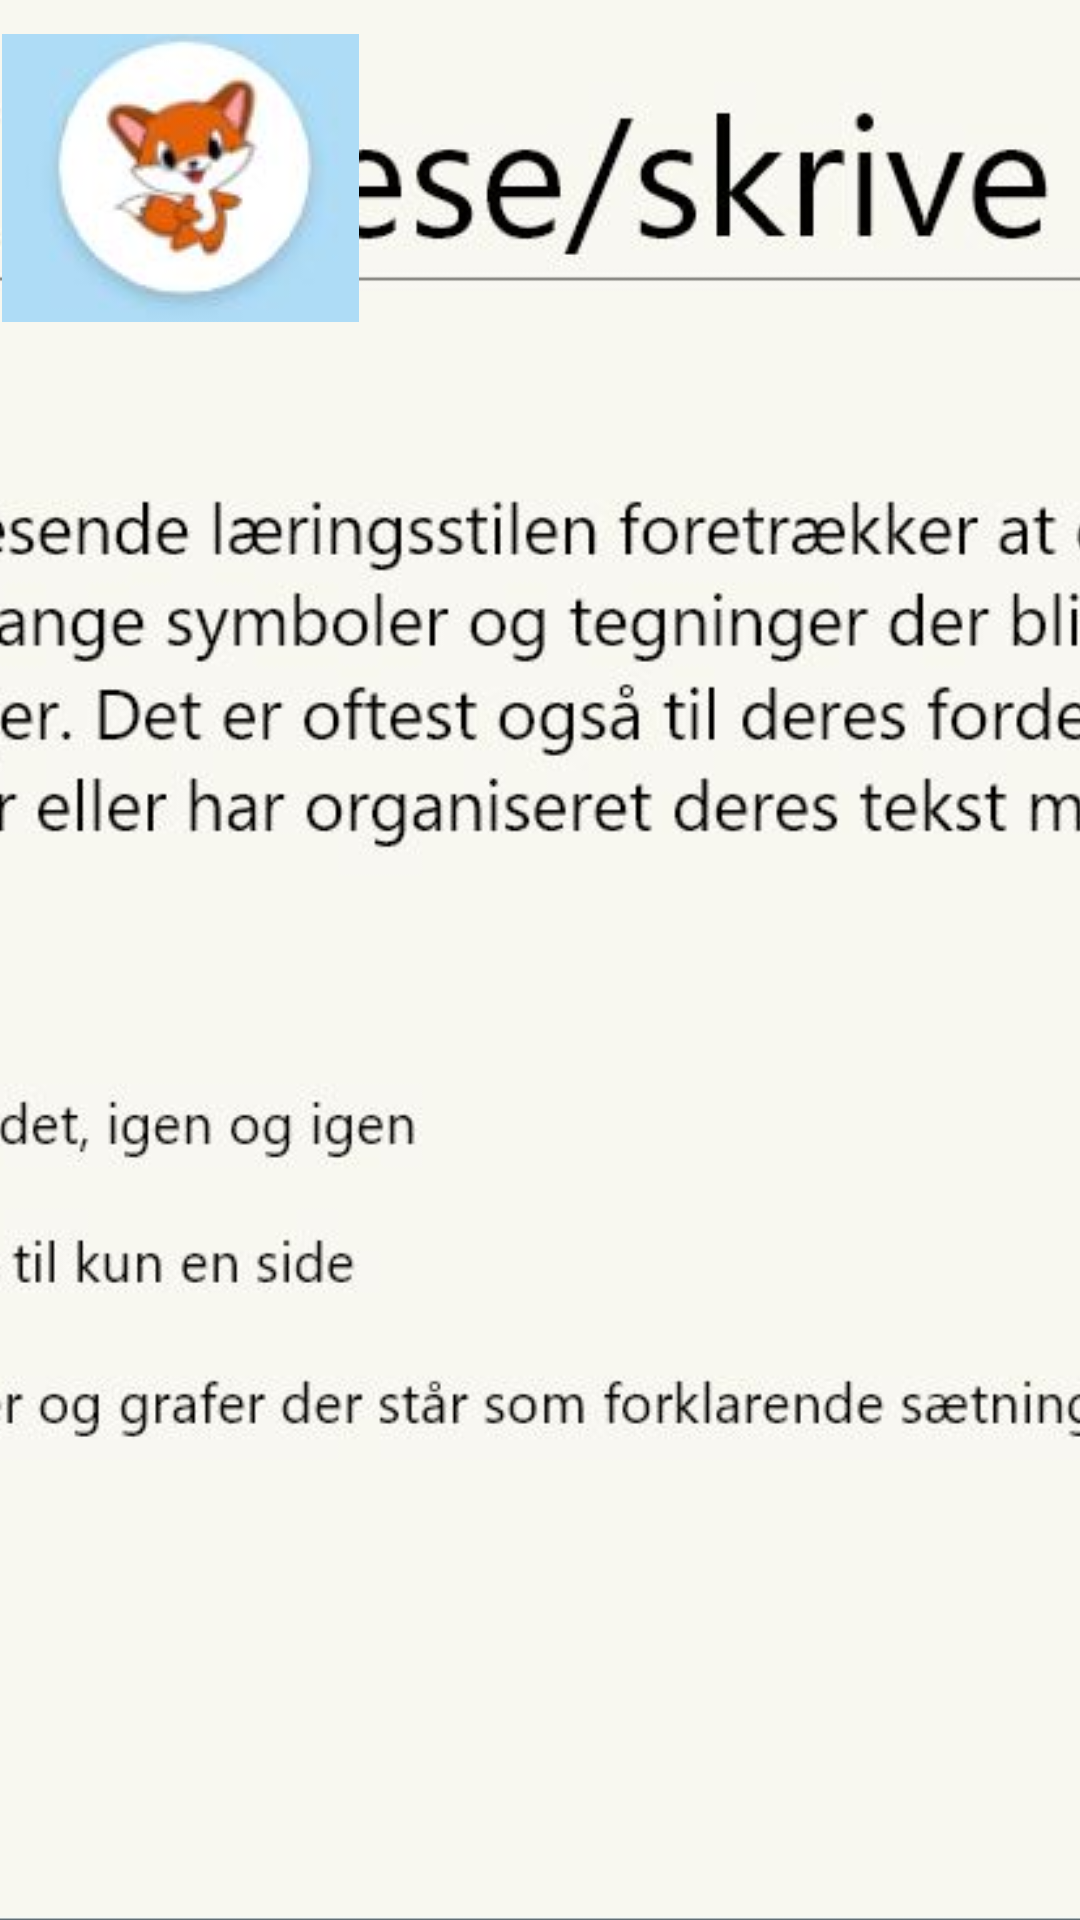

Locate icon controls on the screen. Image size 1080w x 1920h, boxes as (x1, y1, x2, y2).
dinprofil: (0, 34, 360, 322)
